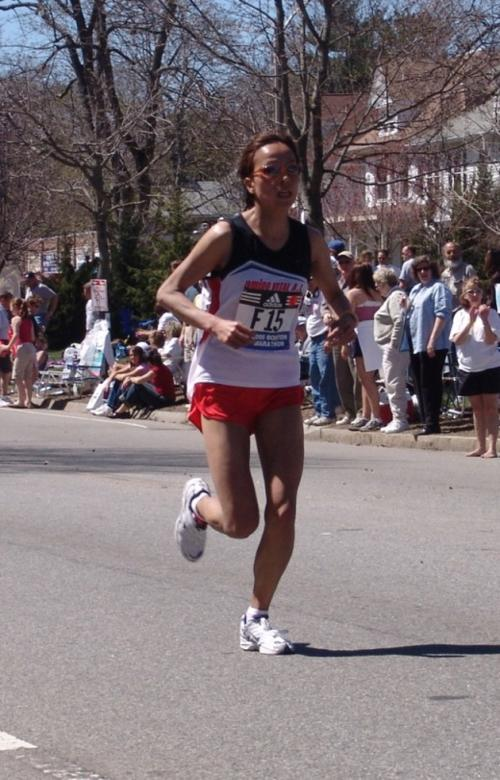person: (156, 125, 359, 663)
